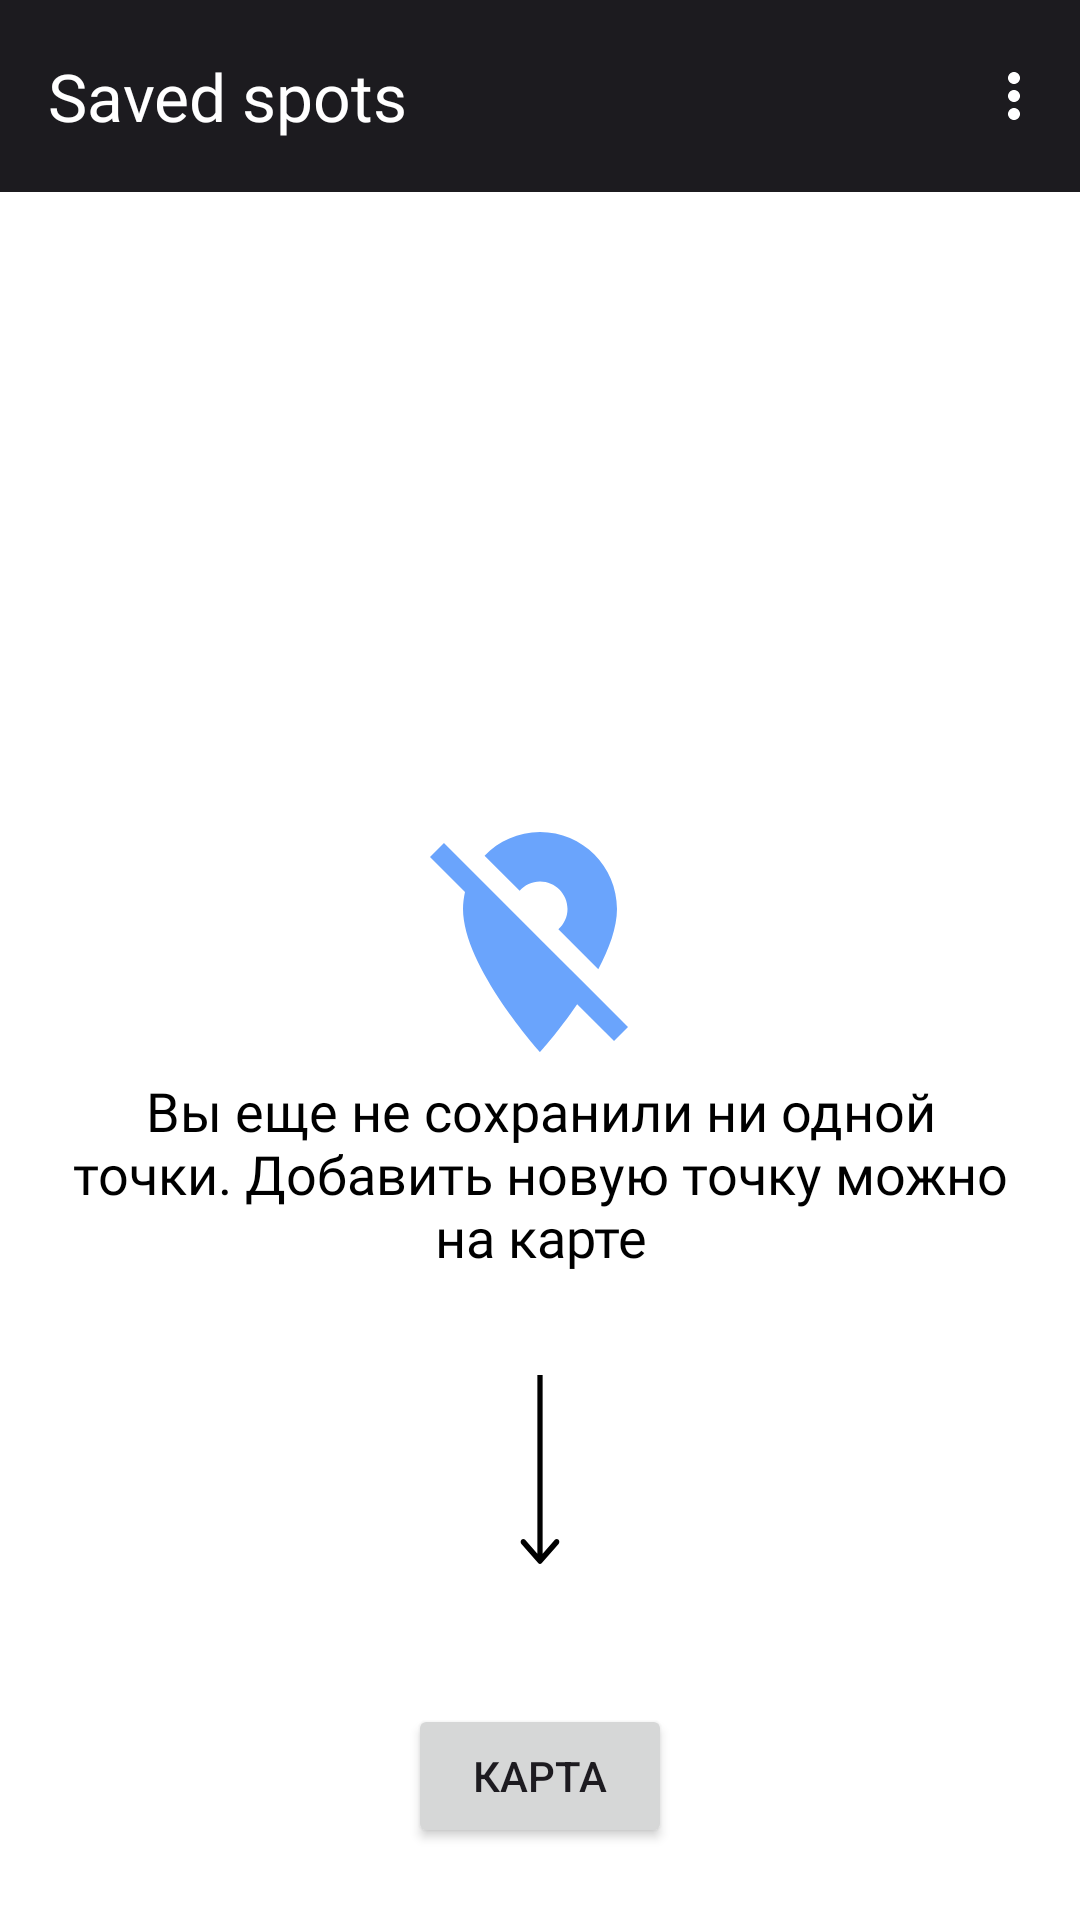

Icon bounding boxes for this 1080*1920 phone screenshot, format region(x1, y1, x2, y2):
long arrow down: region(520, 1375, 560, 1564)
no content: region(430, 832, 628, 1052)
